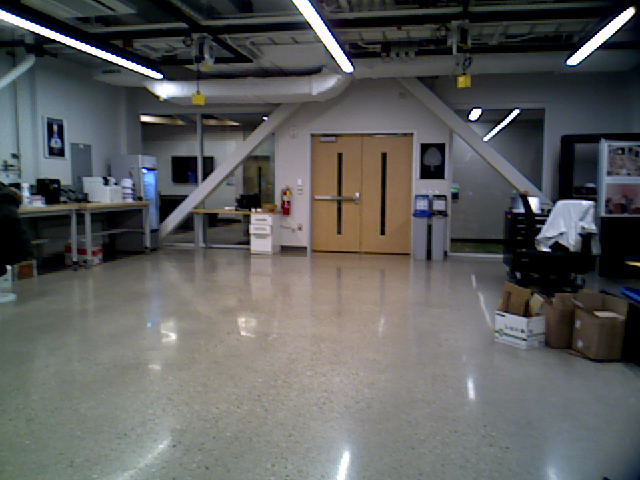painting1: (417, 142, 449, 180)
painting2: (42, 117, 69, 160)
